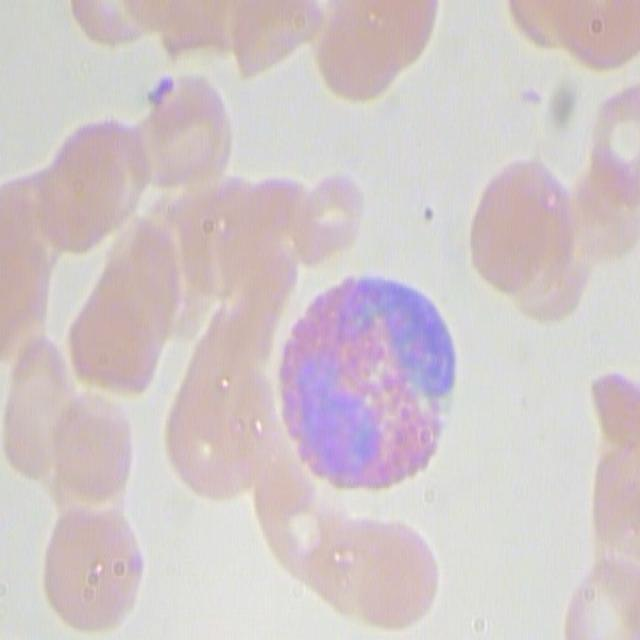RBC: (169, 162, 313, 319), (164, 299, 274, 502), (472, 160, 592, 331), (36, 106, 148, 262), (306, 507, 442, 631), (300, 2, 440, 107), (135, 66, 237, 200), (37, 504, 142, 630), (40, 386, 131, 514), (250, 462, 342, 580), (505, 0, 640, 71), (214, 0, 313, 83), (589, 420, 640, 561), (561, 560, 640, 640), (590, 75, 640, 199), (67, 0, 156, 50)
WBC: (281, 264, 470, 502)
